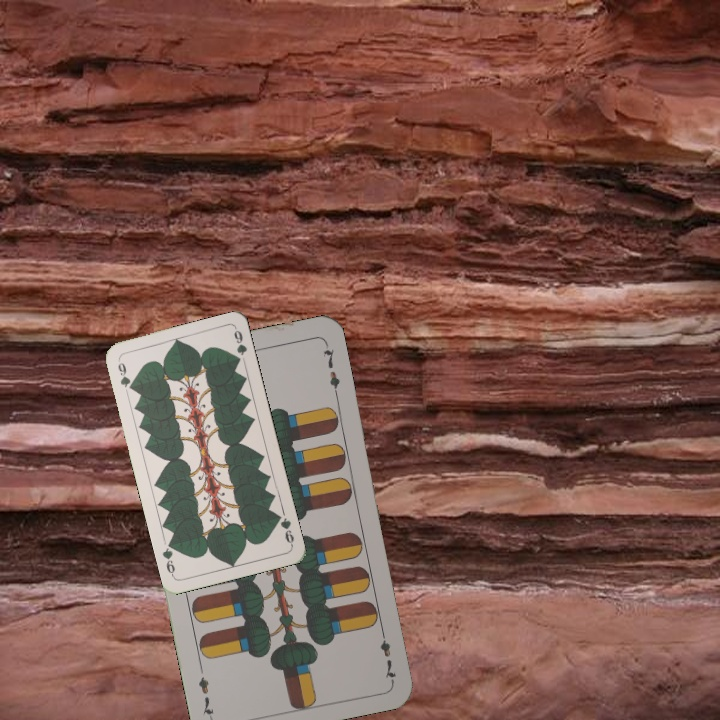E7: (376, 624, 399, 683)
G9: (272, 510, 297, 548), (114, 356, 136, 393)
